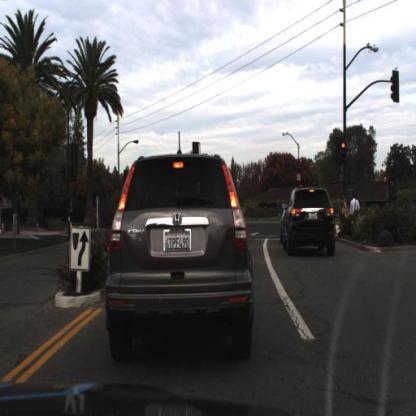car: (105, 154, 256, 366), (281, 186, 337, 258), (402, 193, 416, 224), (341, 198, 351, 223)
pedestrian: (351, 193, 359, 229), (342, 195, 349, 221)
trafficLight-Red: (341, 143, 347, 164), (384, 176, 389, 193)
